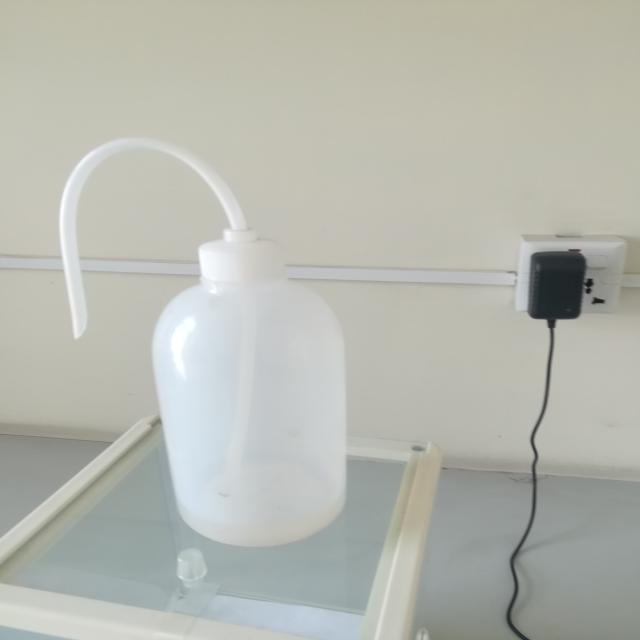Wash_Bottle: (33, 106, 392, 574)
